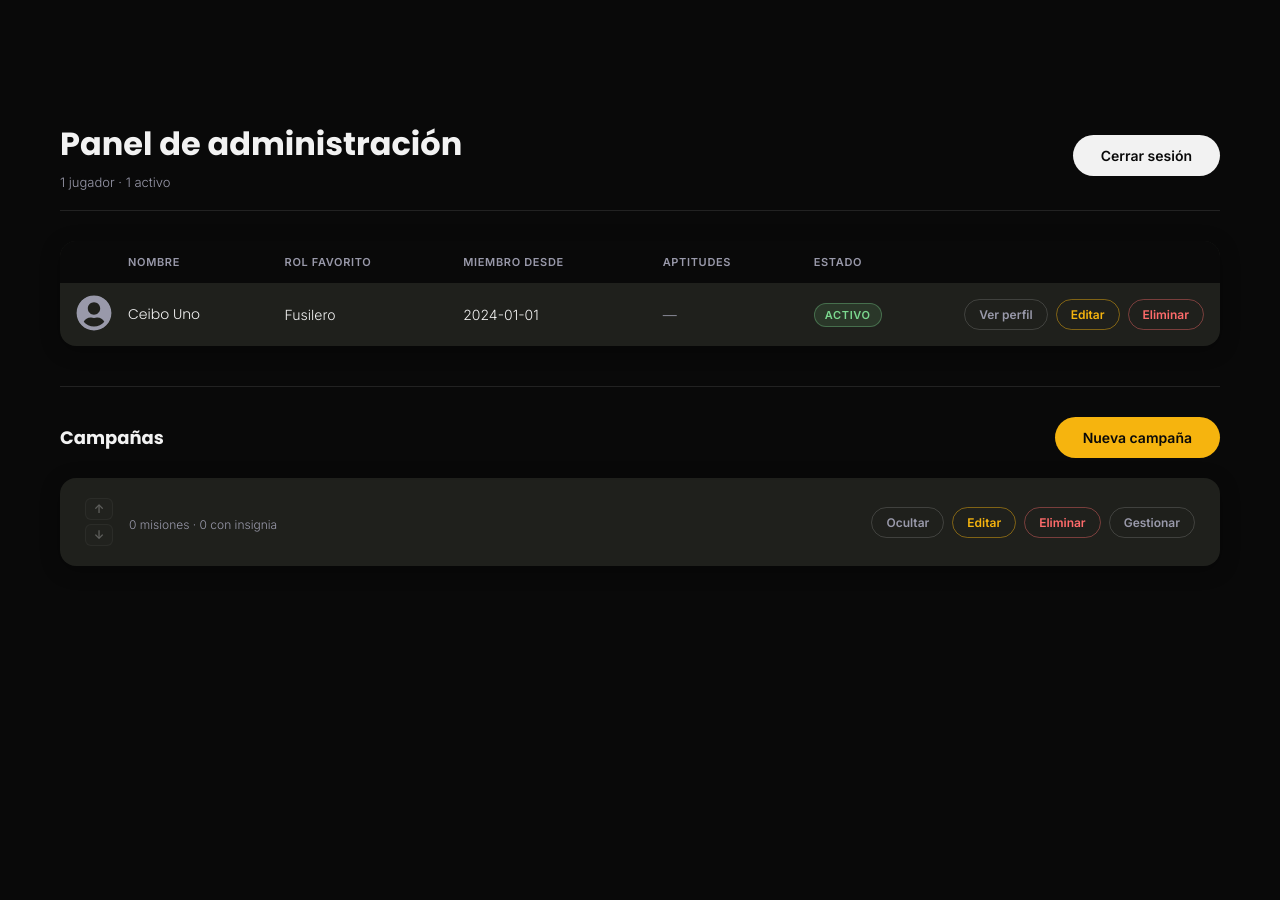
Scenario: Admin › opens the edit panel with the player name in the heading
This screenshot has width=1280, height=900.
Step 1. Click the button "Editar" next to "Ver perfil" → (1088, 314), box x1=1056 y1=299 x2=1120 y2=330
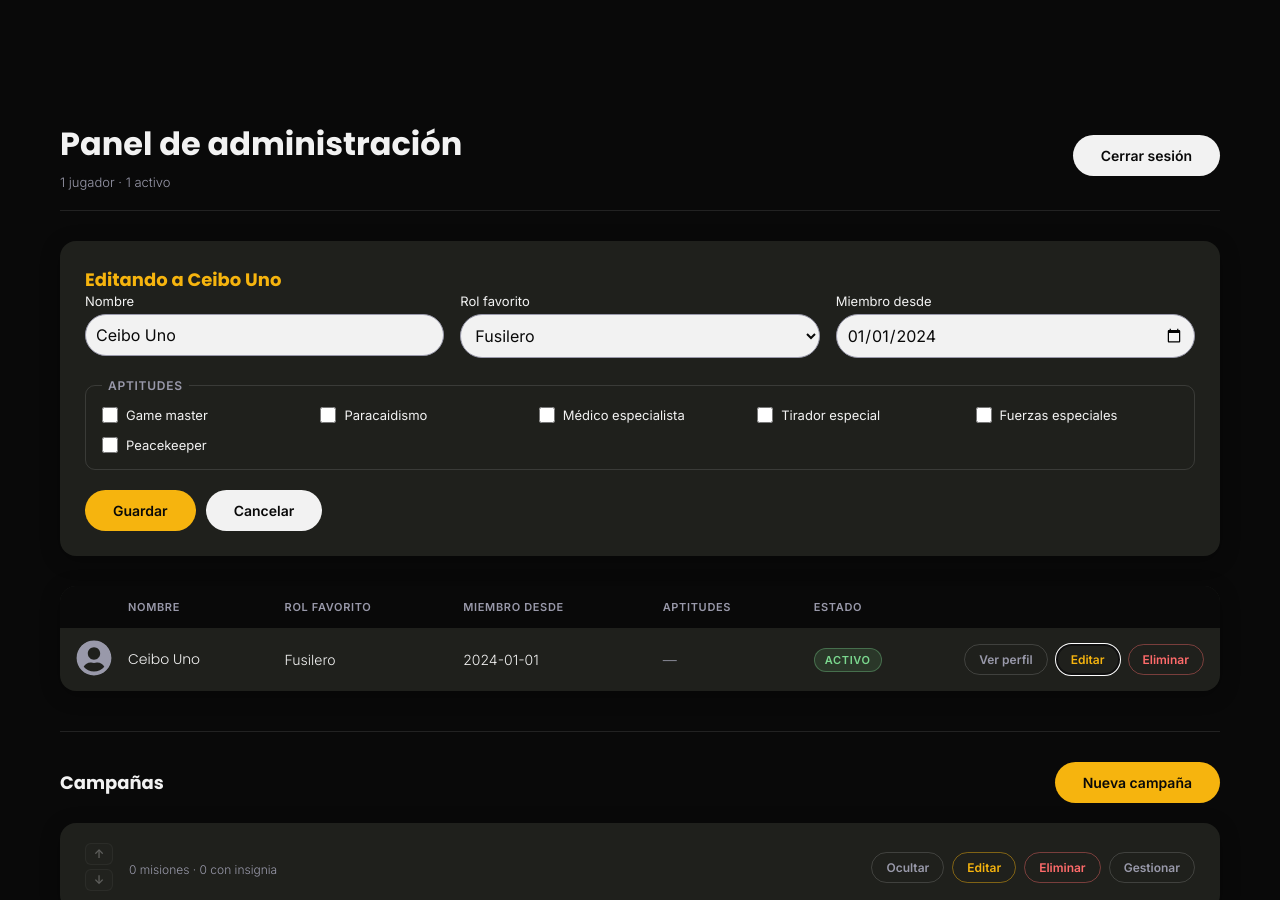
Expected: the heading "Editando a Ceibo Uno" is shown, x1=85 y1=267 x2=281 y2=292
